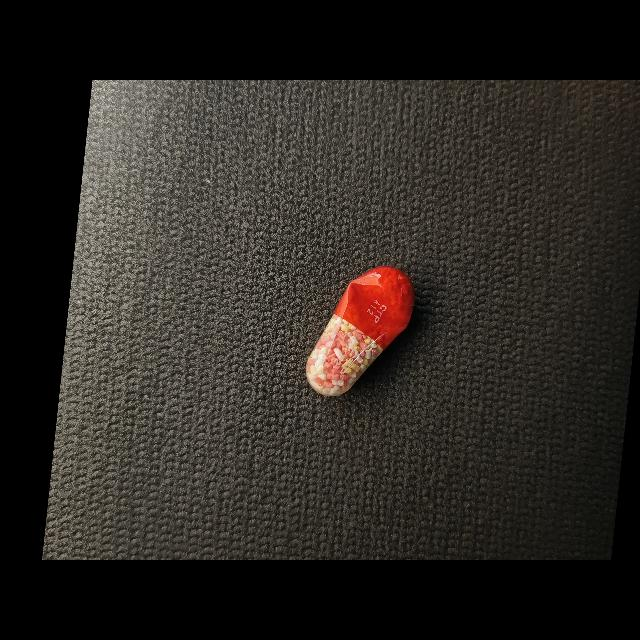Defective Capsule: (306, 266, 415, 396)
